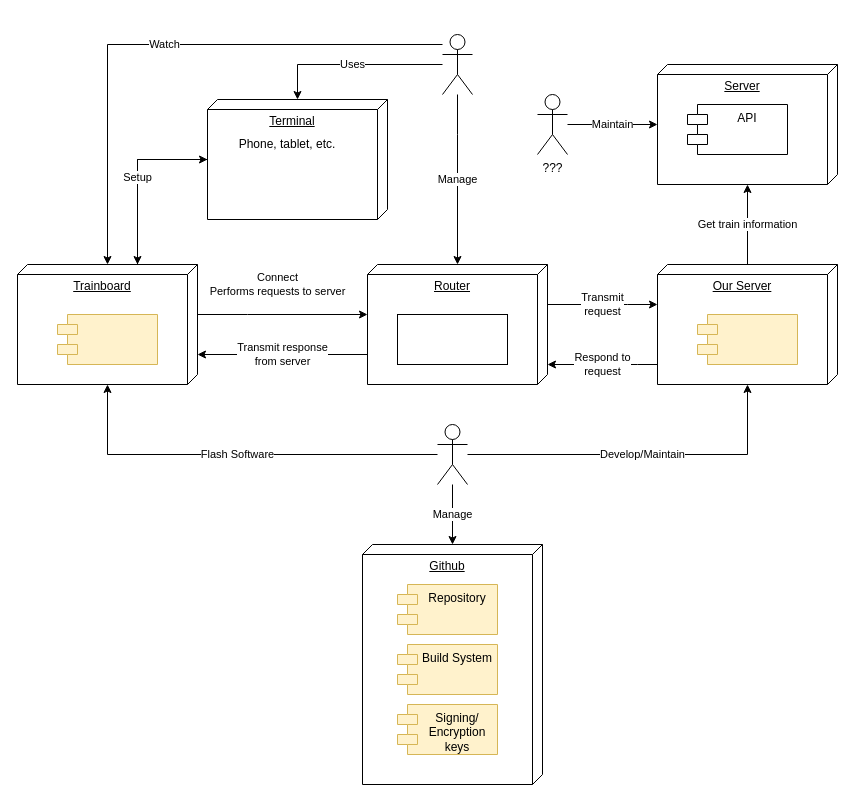
The diagram is 855 pixels wide and 802 high, and some of its shapes have lost their labels. Each missing label, with the centre of its shape:
Backend Software: point (747, 339)
SSID Password: point (452, 339)
Trainboard Firmware: point (107, 339)
Trainboard Team: point (452, 454)
User: point (457, 64)
